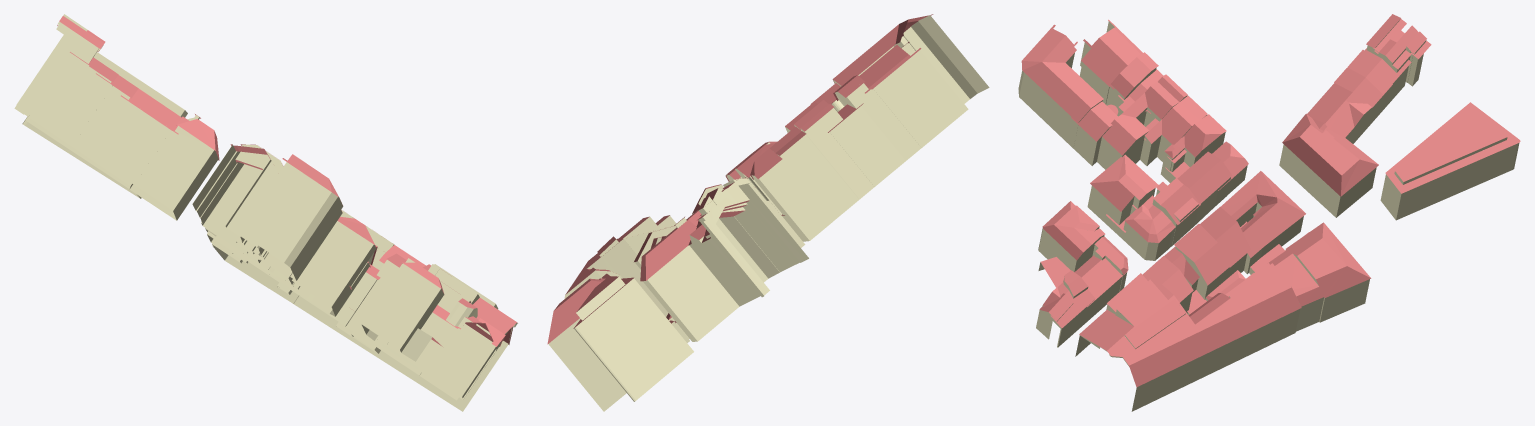
The model's file is tile_061.glb.
The picture shows the model from 3 angles, left to right: view 1: azimuth 30°, elevation 25°; view 2: azimuth 150°, elevation 25°; view 3: azimuth 270°, elevation 25°; orthographic projection. The views are drawn at different scales.
Parts seen in each view (by area): view 1: Batched_Building_ID_5D1F4DC6-BB07-46A5-98D6-56CCBEE395AF; view 2: Batched_Building_ID_5D1F4DC6-BB07-46A5-98D6-56CCBEE395AF; view 3: Batched_Building_ID_5D1F4DC6-BB07-46A5-98D6-56CCBEE395AF.
Boxes of the visible parts, x1=… form: Batched_Building_ID_5D1F4DC6-BB07-46A5-98D6-56CCBEE395AF: x1=14, y1=14, x2=517, y2=411; Batched_Building_ID_5D1F4DC6-BB07-46A5-98D6-56CCBEE395AF: x1=547, y1=14, x2=989, y2=411; Batched_Building_ID_5D1F4DC6-BB07-46A5-98D6-56CCBEE395AF: x1=1018, y1=14, x2=1520, y2=411.
Bounding box in the file's own units: 124 × 115 × 179.
